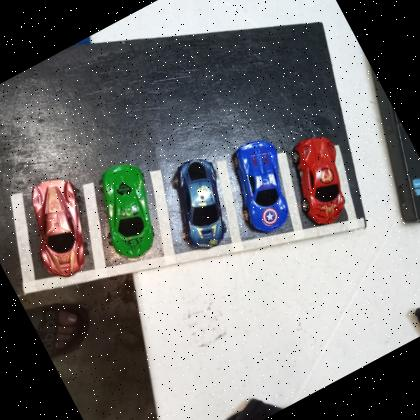Car: (4, 167, 114, 289), (77, 154, 177, 267), (152, 149, 250, 259), (214, 130, 310, 240), (274, 127, 368, 233)
